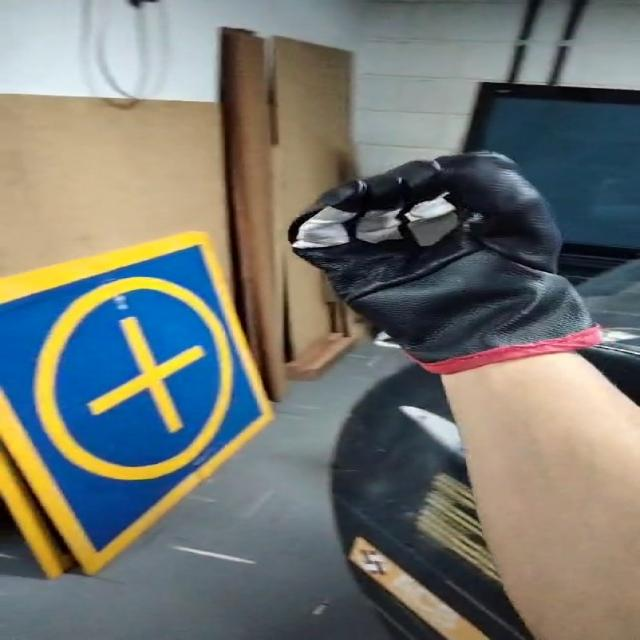Gloves: (284, 148, 612, 376)
